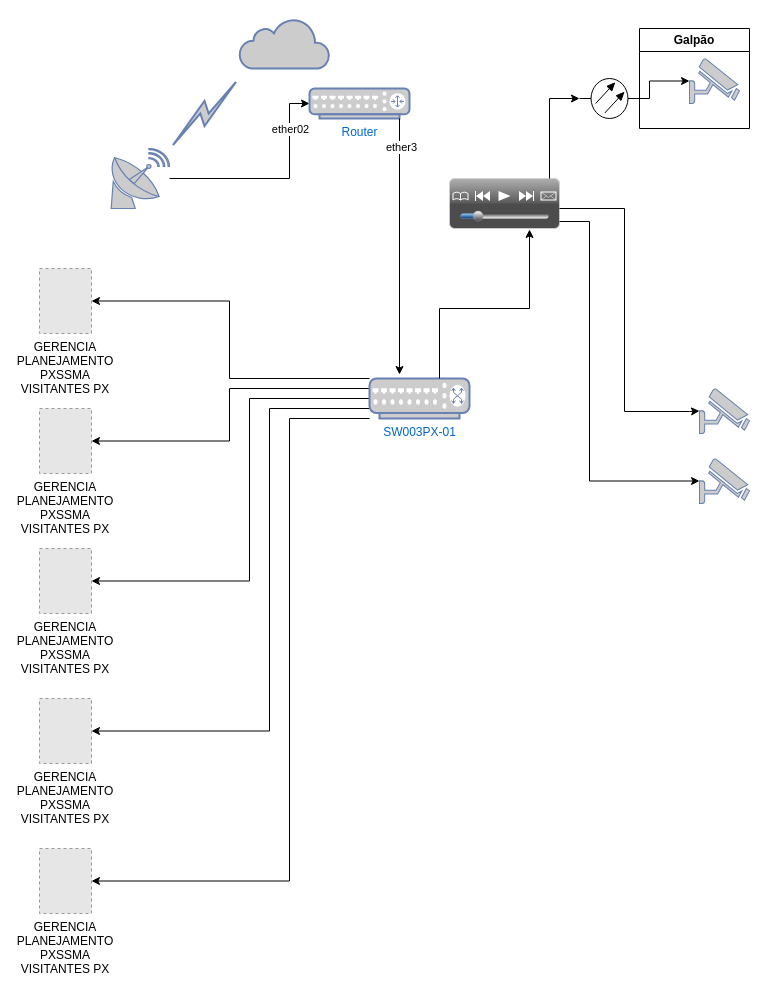
This 768x993 diagram has some shape labels left out. Grey dashed boxes stand in for pictures. The shapes that lost their labels are listed below. From the top down, each one's centre as x and y in pixels, then its label:
(x=139, y=178): STARLINK
(x=504, y=203): DVR
